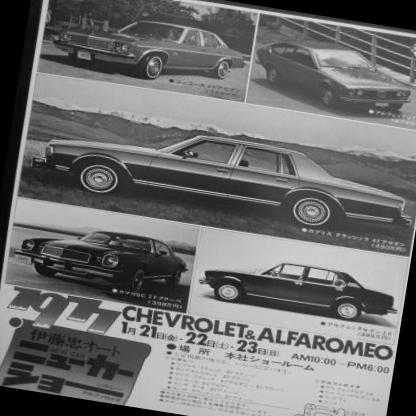car: (41, 95, 416, 248), (193, 232, 398, 334), (49, 1, 246, 97), (248, 22, 416, 127), (15, 208, 189, 300)
